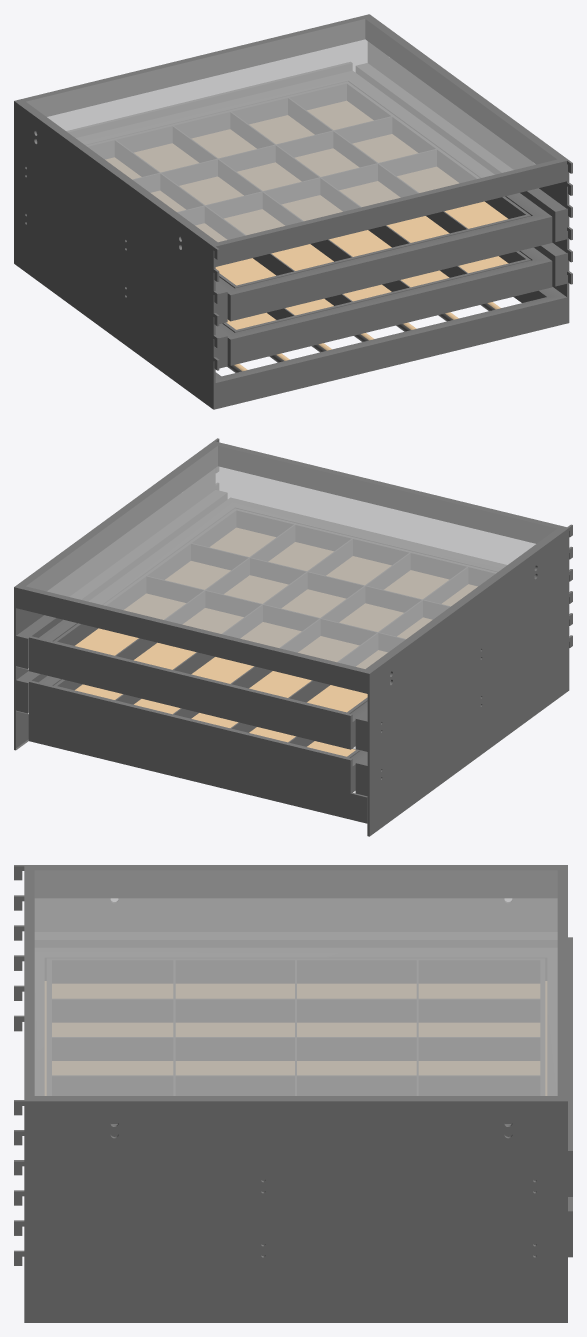
3 renders of one model, top to bottom at view 1: azimuth 30°, elevation 25°; view 2: azimuth 150°, elevation 25°; view 3: azimuth 270°, elevation 25°, orthographic. The views are drawn at different scales.
Visible parts, largest first — view 1: Geom3D (×3); view 2: Geom3D (×3); view 3: Geom3D (×3).
Part boxes in pixels (box(x1,y1,x2,y2)): Geom3D (×3): box(14, 14, 572, 409); Geom3D (×3): box(14, 438, 572, 836); Geom3D (×3): box(14, 865, 572, 1322).
Bounding box in the file's own units: 0.545 × 0.2384 × 0.545.
